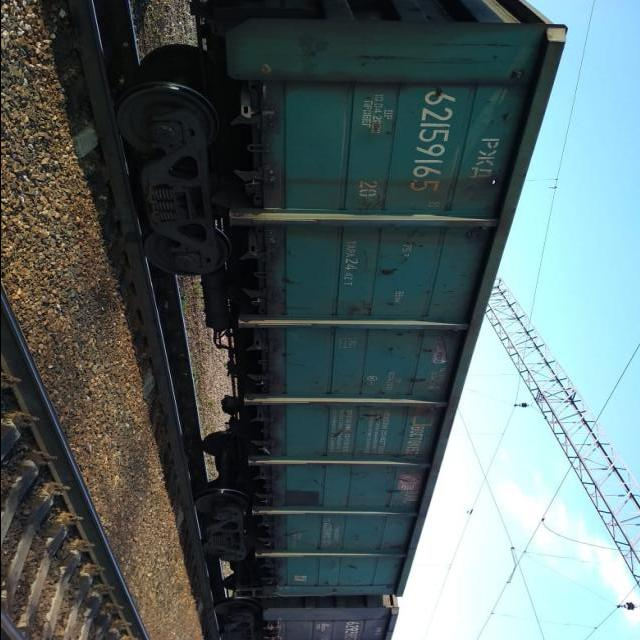wagon: (403, 90, 462, 194), (340, 619, 364, 640)
